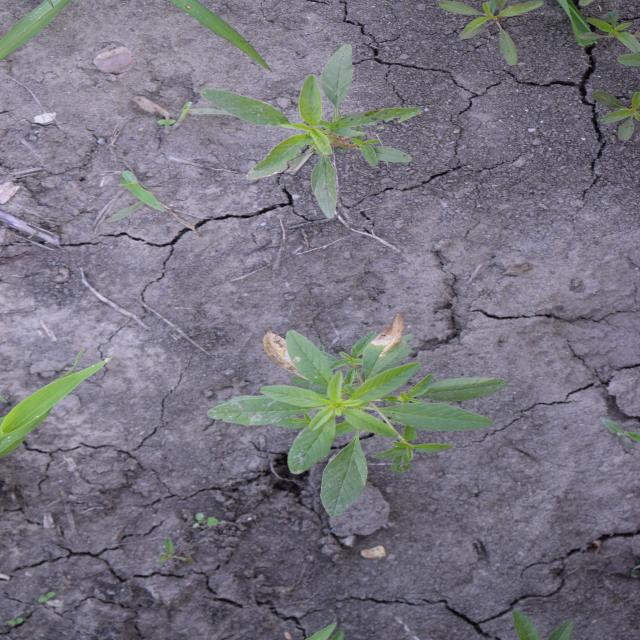Waterhemp: (204, 329, 510, 520), (197, 43, 427, 221), (433, 0, 546, 68), (574, 8, 638, 57)
